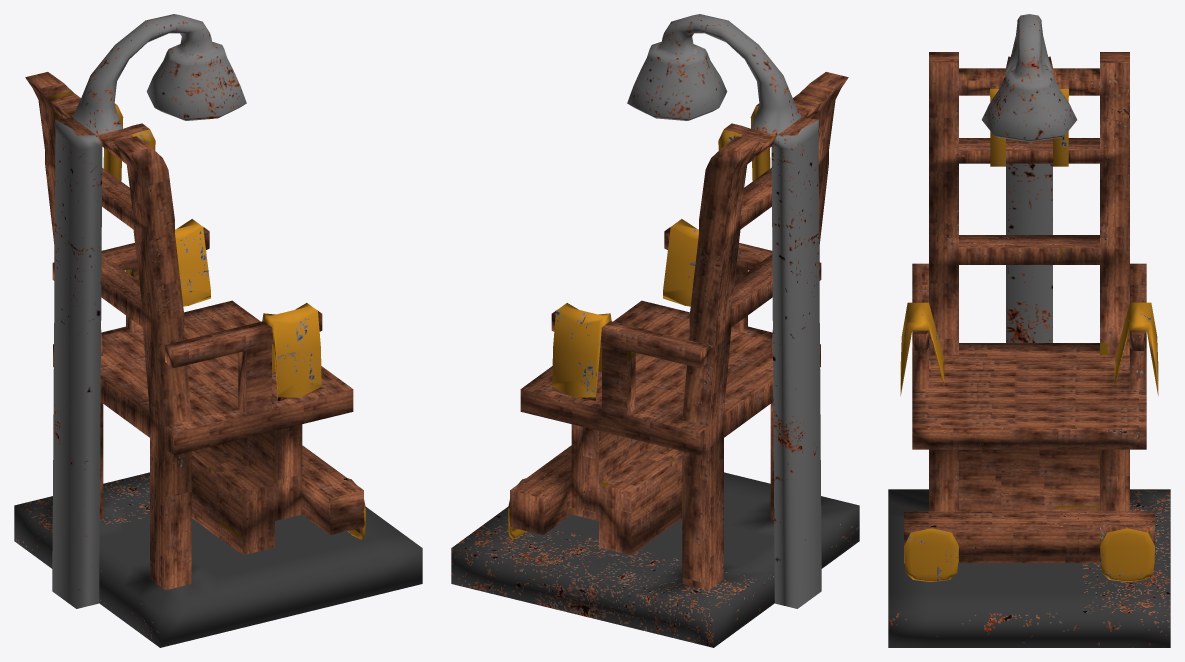
File: CadeiraEletricaRE1.fbx
The picture shows the model from 3 angles, left to right: view 1: azimuth 30°, elevation 25°; view 2: azimuth 150°, elevation 25°; view 3: azimuth 270°, elevation 25°; orthographic projection. The views are drawn at different scales.
Parts seen in each view (by area): view 1: CadeiraEletrica; view 2: CadeiraEletrica; view 3: CadeiraEletrica.
Part boxes in pixels (bbox=[...]): CadeiraEletrica: bbox=[14, 14, 422, 647]; CadeiraEletrica: bbox=[451, 14, 859, 647]; CadeiraEletrica: bbox=[888, 14, 1170, 647].
Bounding box in the file's own units: 0.9939 × 1.86 × 0.8798.
Materials: 1 (1 with a texture image).
